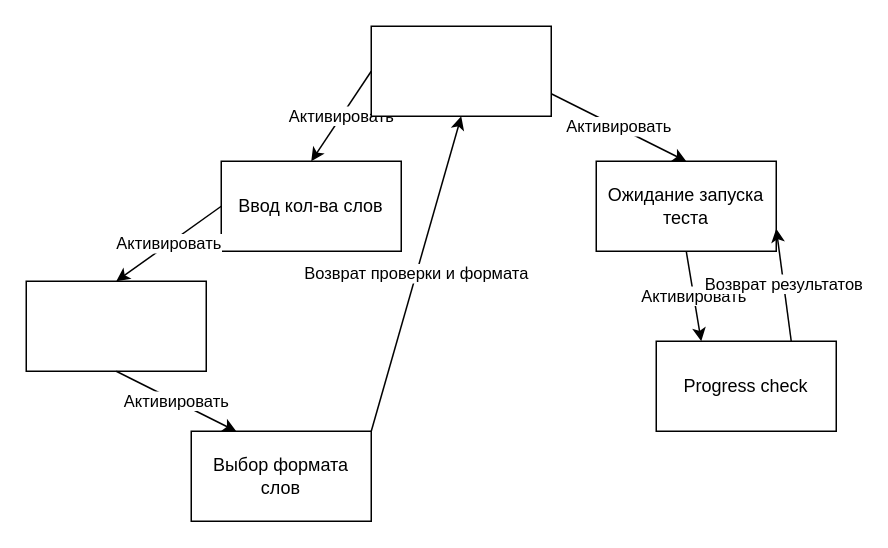
Some shapes in this 888 by 548 pixel diagram are drawn without their labels. The shapes that lost their labels are listed below. From the top down, each one's centre as x and y in pixels, then its label:
At point 460,70: "Главное меню".
At point 115,325: "Проверка кол-ва слов в файле".
